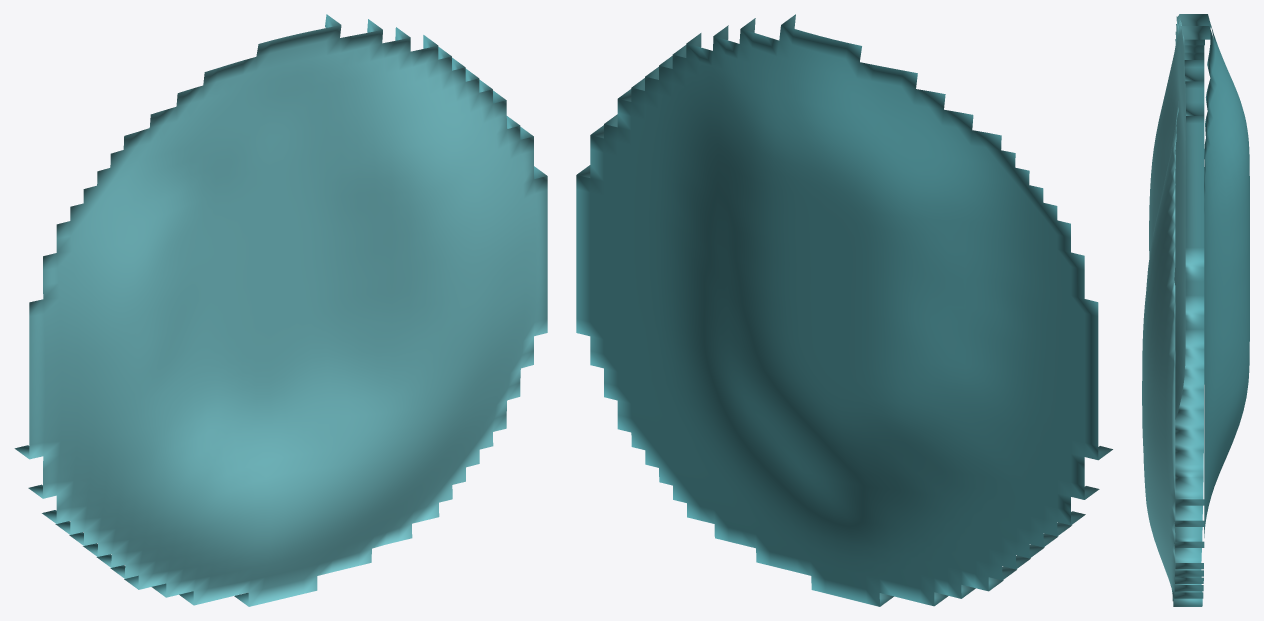
The model's file is PAIR-OFFLOAD-3RD_LEFT_addon.glb.
3 renders of one model, left to right at view 1: azimuth 30°, elevation 25°; view 2: azimuth 150°, elevation 25°; view 3: azimuth 270°, elevation 25°, orthographic. The views are drawn at different scales.
Visible parts, largest first — view 1: world; view 2: world; view 3: world.
Boxes of the visible parts, box(x1,y1,x2,y2) form: world: box(14, 14, 547, 606); world: box(576, 14, 1112, 606); world: box(1142, 14, 1249, 606).
Bounding box in the file's own units: 38 × 39 × 7.08.
